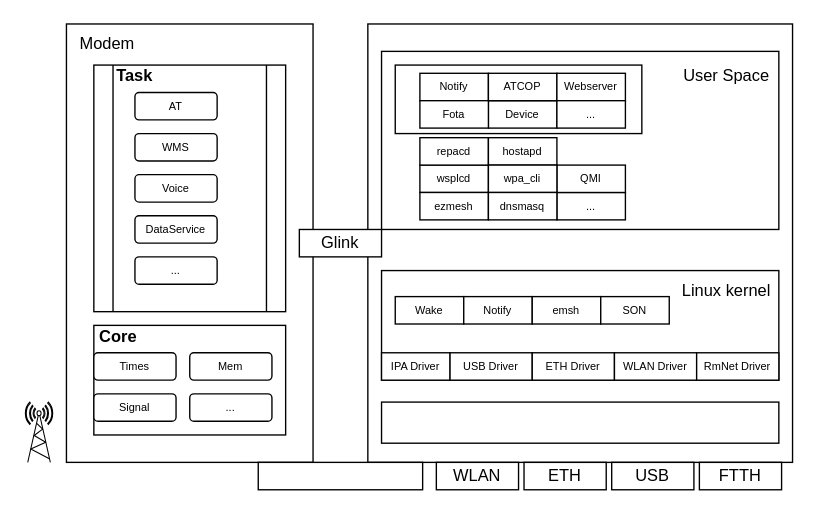
Some shapes in this 829 by 514 pixel diagram are drawn without their labels. The shapes that lost their labels are listed below. From the top down, each one's box as (x1, y1, x2, y2) in pixels, then its label:
(394, 64, 642, 134): SDK
(380, 401, 779, 443): Boot
(257, 461, 423, 490): IPA
